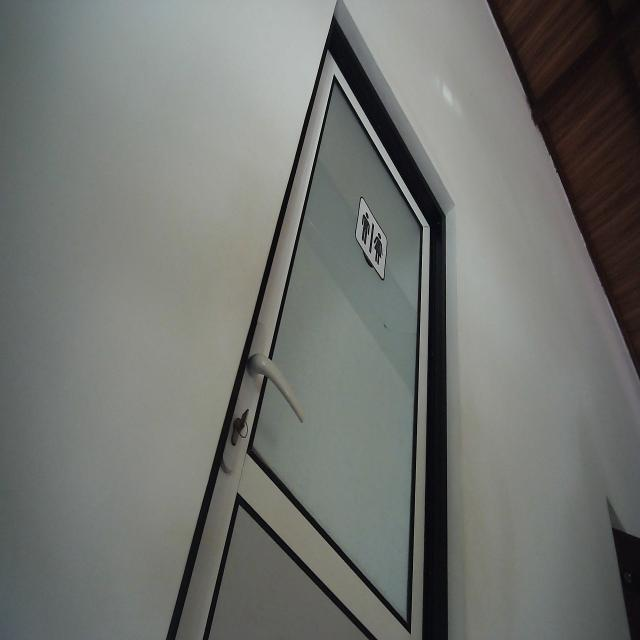restroom: (354, 194, 389, 284)
